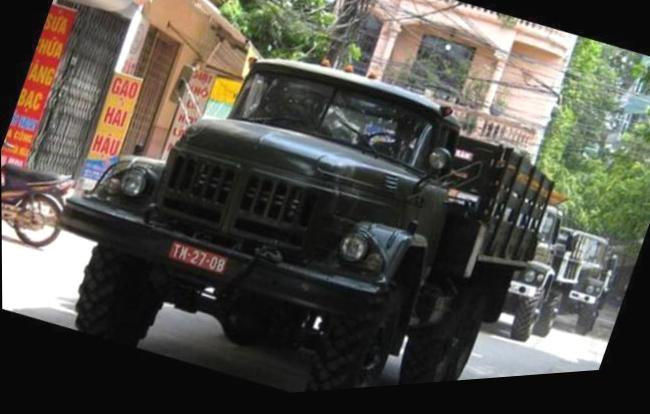License_Plate: (168, 234, 226, 282)
